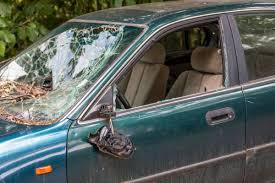Front-Windscreen-Damage: (0, 21, 147, 122)
Sidemirror-Damage: (86, 121, 136, 165)
